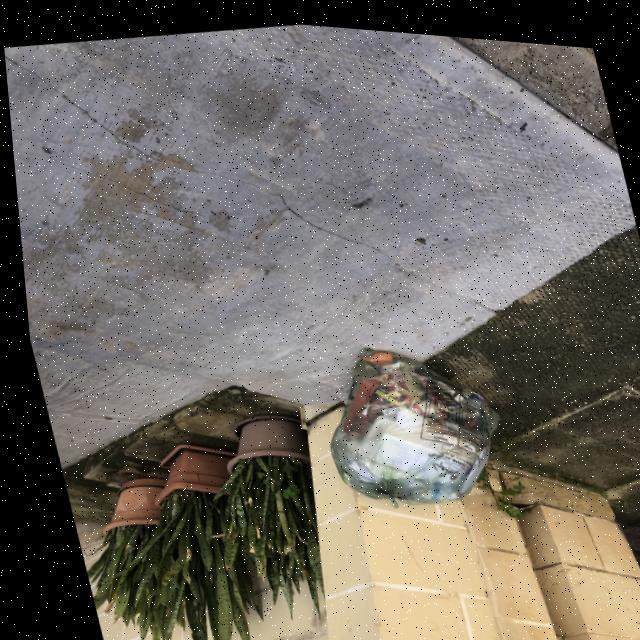Recycled Waste -Grey or Green Bag-: (297, 315, 519, 526)
